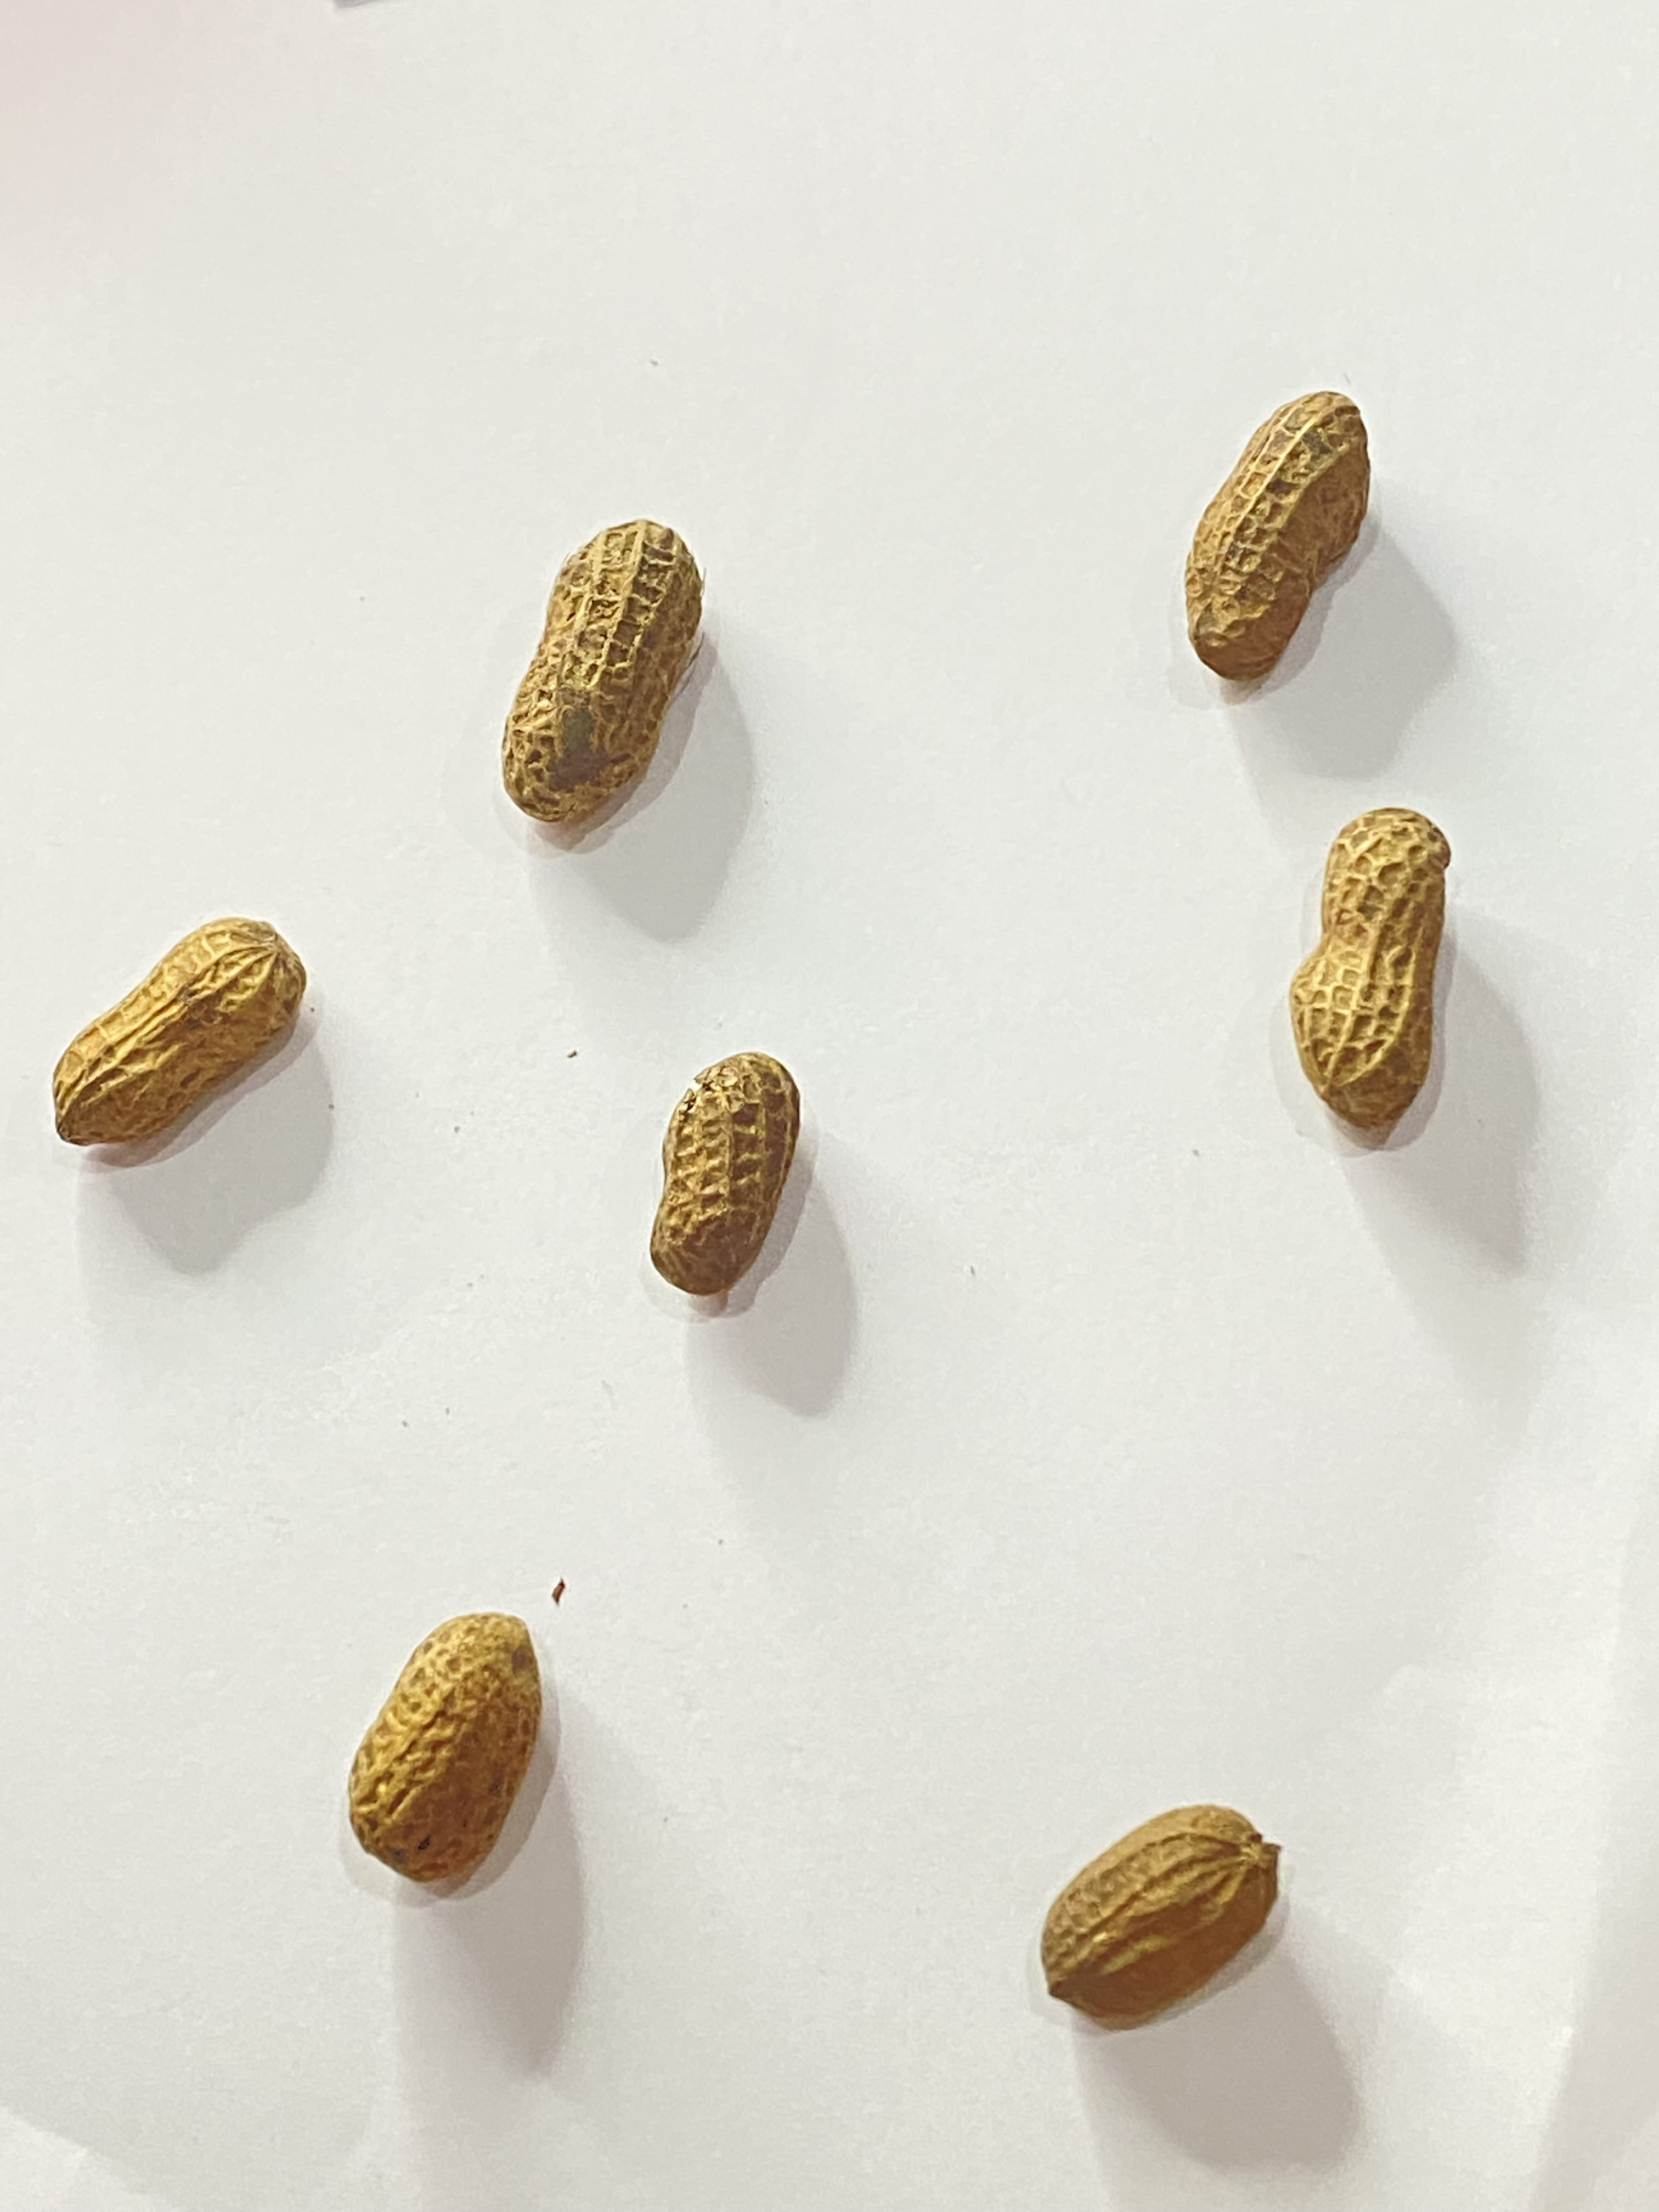kacang1: (289, 1606, 622, 1909), (962, 1789, 1338, 2036)
kacang2: (474, 488, 711, 859), (1154, 380, 1420, 688), (38, 894, 321, 1153), (1288, 794, 1480, 1158), (631, 1007, 817, 1362)
